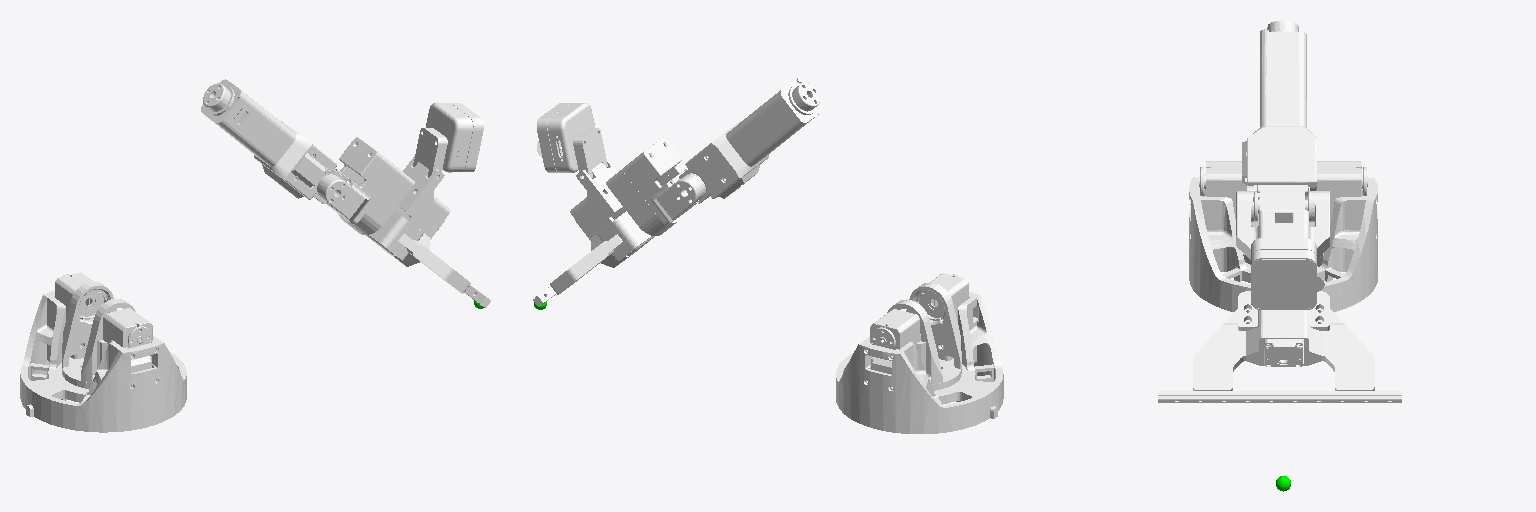
The robot description file, URDF, robot "alicia_D_v5_5":
<?xml version="1.0" encoding="utf-8"?>
<robot name="alicia_D_v5_5">
  <mujoco>
    <compiler meshdir="../meshes" discardvisual="false" />
    <contact>
      <exclude body1="base_link" body2="Link1"/>
      <exclude body1="Link1" body2="Link2"/>
      <exclude body1="Link2" body2="Link3"/>
      <exclude body1="Link3" body2="Link4"/>
      <exclude body1="Link4" body2="Link5"/>
      <exclude body1="Link5" body2="Link6"/>
      <exclude body1="Link6" body2="Link7"/>
      <exclude body1="Link6" body2="Link8"/>
    </contact>
  </mujoco>
  <link
    name="base_link">
    <visual>
      <origin
        xyz="0 0 0"
        rpy="0 0 0" />
      <geometry>
        <mesh
          filename="package://alicia_d_descriptions/meshes/base_link.STL" />
      </geometry>
      <material
        name="">
        <color
          rgba="1 1 1 1" />
      </material>
    </visual>
    <collision>
      <origin
        xyz="0 0 0"
        rpy="0 0 0" />
      <geometry>
        <mesh
          filename="package://alicia_d_descriptions/meshes/base_link.STL" />
      </geometry>
    </collision>
  </link>
  <link
    name="Link1">
    <inertial>
      <origin
        xyz="-0.000232391087694535 -1.30049454546467E-05 0.00272122513752755"
        rpy="0 0 0" />
      <mass
        value="0.193725361315237" />
      <inertia
        ixx="0.000258312653055438"
        ixy="8.79363230651008E-07"
        ixz="-6.87511809706199E-07"
        iyy="0.000149233685494123"
        iyz="-1.07703111237371E-06"
        izz="0.000339752801671385" />
    </inertial>
    <visual>
      <origin
        xyz="0 0 0"
        rpy="0 0 0" />
      <geometry>
        <mesh
          filename="package://alicia_d_descriptions/meshes/Link1.STL" />
      </geometry>
      <material
        name="">
        <color
          rgba="1 1 1 1" />
      </material>
    </visual>
    <collision>
      <origin
        xyz="0 0 0"
        rpy="0 0 0" />
      <geometry>
        <mesh
          filename="package://alicia_d_descriptions/meshes/Link1.STL" />
      </geometry>
    </collision>
  </link>
  <joint
    name="Joint1"
    type="revolute">
    <origin
      xyz="0 0 0.1295"
      rpy="0 0 0" />
    <parent
      link="base_link" />
    <child
      link="Link1" />
    <axis
      xyz="0 0 1" />
    <limit
      lower="-2.16"
      upper="2.16"
      effort="12"
      velocity="5" />
  </joint>
  <link
    name="Link2">
    <inertial>
      <origin
        xyz="0.149948141017768 -0.00073733103436536 -0.000614552702572041"
        rpy="0 0 0" />
      <mass
        value="0.216765318032361" />
      <inertia
        ixx="0.00012827957403101"
        ixy="-1.18676813578654E-07"
        ixz="-1.68171130903575E-06"
        iyy="0.000226231611908606"
        iyz="-3.50051091633141E-07"
        izz="0.000143215063853149" />
    </inertial>
    <visual>
      <origin
        xyz="0 0 0"
        rpy="0 0 0" />
      <geometry>
        <mesh
          filename="package://alicia_d_descriptions/meshes/Link2.STL" />
      </geometry>
      <material
        name="">
        <color
          rgba="1 1 1 1" />
      </material>
    </visual>
    <collision>
      <origin
        xyz="0 0 0"
        rpy="0 0 0" />
      <geometry>
        <mesh
          filename="package://alicia_d_descriptions/meshes/Link2.STL" />
      </geometry>
    </collision>
  </link>
  <joint
    name="Joint2"
    type="revolute">
    <origin
      xyz="0 -5E-05 0.04287"
      rpy="1.5708 -1.5708 0" />
    <parent
      link="Link1" />
    <child
      link="Link2" />
    <axis
      xyz="0 0 1" />
    <limit
      lower="-1.57"
      upper="1.57"
      effort="12"
      velocity="5" />
  </joint>
  <link
    name="Link3">
    <inertial>
      <origin
        xyz="0.055786319810667 0.00248143782929366 0.000269720725052352"
        rpy="0 0 0" />
      <mass
        value="0.0845575681430802" />
      <inertia
        ixx="2.87941478239851E-05"
        ixy="-2.26498116289353E-06"
        ixz="-5.38445390787684E-06"
        iyy="7.61918370068424E-05"
        iyz="-3.82299515503286E-07"
        izz="8.043706644056E-05" />
    </inertial>
    <visual>
      <origin
        xyz="0 0 0"
        rpy="0 0 0" />
      <geometry>
        <mesh
          filename="package://alicia_d_descriptions/meshes/Link3.STL" />
      </geometry>
      <material
        name="">
        <color
          rgba="1 1 1 1" />
      </material>
    </visual>
    <collision>
      <origin
        xyz="0 0 0"
        rpy="0 0 0" />
      <geometry>
        <mesh
          filename="package://alicia_d_descriptions/meshes/Link3.STL" />
      </geometry>
    </collision>
  </link>
  <joint
    name="Joint3"
    type="revolute">
    <origin
      xyz="0.22367 -0.022592 0"
      rpy="0 0 -2.3562" />
    <parent
      link="Link2" />
    <child
      link="Link3" />
    <axis
      xyz="0 0 1" />
    <limit
      lower="-0.5"
      upper="2.35619"
      effort="12"
      velocity="5" />
  </joint>
  <link
    name="Link4">
    <inertial>
      <origin
        xyz="0.000298365504501796 -0.000601368925849056 0.0663740391896737"
        rpy="0 0 0" />
      <mass
        value="0.0653695953286747" />
      <inertia
        ixx="7.03004188086337E-05"
        ixy="-9.68417851161416E-09"
        ixz="-7.50131707418093E-07"
        iyy="6.8747029788813E-05"
        iyz="4.45271906086873E-08"
        izz="1.68226189350765E-05" />
    </inertial>
    <visual>
      <origin
        xyz="0 0 0"
        rpy="0 0 0" />
      <geometry>
        <mesh
          filename="package://alicia_d_descriptions/meshes/Link4.STL" />
      </geometry>
      <material
        name="">
        <color
          rgba="1 1 1 1" />
      </material>
    </visual>
    <collision>
      <origin
        xyz="0 0 0"
        rpy="0 0 0" />
      <geometry>
        <mesh
          filename="package://alicia_d_descriptions/meshes/Link4.STL" />
      </geometry>
    </collision>
  </link>
  <joint
    name="Joint4"
    type="revolute">
    <origin
      xyz="0.0986 -0.00211 0.0002"
      rpy="-1.5708 0 -1.5708" />
    <parent
      link="Link3" />
    <child
      link="Link4" />
    <axis
      xyz="0 0 -1" />
    <limit
      lower="-3.14"
      upper="3.14"
      effort="12"
      velocity="5" />
  </joint>
  <link
    name="Link5">
    <inertial>
      <origin
        xyz="-0.0110961410990681 0.0308024762289942 -0.000207575403674642"
        rpy="0 0 0" />
      <mass
        value="0.0463941316397046" />
      <inertia
        ixx="1.8425786696003E-05"
        ixy="2.02919305442313E-06"
        ixz="-5.09341788606234E-08"
        iyy="2.39811947218569E-05"
        iyz="-4.22854804621873E-08"
        izz="1.63952567717743E-05" />
    </inertial>
    <visual>
      <origin
        xyz="0 0 0"
        rpy="0 0 0" />
      <geometry>
        <mesh
          filename="package://alicia_d_descriptions/meshes/Link5.STL" />
      </geometry>
      <material
        name="">
        <color
          rgba="1 1 1 1" />
      </material>
    </visual>
    <collision>
      <origin
        xyz="0 0 0"
        rpy="0 0 0" />
      <geometry>
        <mesh
          filename="package://alicia_d_descriptions/meshes/Link5.STL" />
      </geometry>
    </collision>
  </link>
  <joint
    name="Joint5"
    type="revolute">
    <origin
      xyz="0 0.00015 0.12275"
      rpy="1.5708 0 0" />
    <parent
      link="Link4" />
    <child
      link="Link5" />
    <axis
      xyz="0 0 1" />
    <limit
      lower="-1.57"
      upper="1.5"
      effort="12"
      velocity="5" />
  </joint>
  <link
    name="Link6">
    <inertial>
      <origin
        xyz="-3.11347120307559E-09 6.19962735608128E-10 -0.00146275616399921"
        rpy="0 0 0" />
      <mass
        value="0.000754053623586768" />
      <inertia
        ixx="1.9236769291339E-08"
        ixy="9.19452445636026E-14"
        ixz="3.52333012571258E-15"
        iyy="1.92358360258478E-08"
        iyz="-3.901270498029E-17"
        izz="3.70123450485896E-08" />
    </inertial>
    <visual>
      <origin
        xyz="0 0 0"
        rpy="0 0 0" />
      <geometry>
        <mesh
          filename="package://alicia_d_descriptions/meshes/Link6.STL" />
      </geometry>
      <material
        name="">
        <color
          rgba="1 1 1 1" />
      </material>
    </visual>
    <collision>
      <origin
        xyz="0 0 0"
        rpy="0 0 0" />
      <geometry>
        <mesh
          filename="package://alicia_d_descriptions/meshes/Link6.STL" />
      </geometry>
    </collision>
  </link>
  <joint
    name="Joint6"
    type="revolute">
    <origin
      xyz="-0.00385 0.0573 -0.00035"
      rpy="-1.5708 0 0" />
    <parent
      link="Link5" />
    <child
      link="Link6" />
    <axis
      xyz="0 0 -1" />
    <limit
      lower="-3.14"
      upper="3.14"
      effort="12"
      velocity="5" />
  </joint>
  <link
    name="Grasp_base">
    <inertial>
      <origin
        xyz="-0.0321082111389046 -0.000168822009778203 0.0275474621634362"
        rpy="0 0 0" />
      <mass
        value="0.119820573147005" />
      <inertia
        ixx="8.23026483118452E-05"
        ixy="2.1627287972411E-08"
        ixz="-6.37078693697654E-06"
        iyy="3.33372461482565E-05"
        iyz="2.3095070932307E-08"
        izz="8.59654133961544E-05" />
    </inertial>
    <visual>
      <origin
        xyz="0 0 0"
        rpy="0 0 0" />
      <geometry>
        <mesh
          filename="package://alicia_d_descriptions/meshes/Grasp_base.STL" />
      </geometry>
      <material
        name="">
        <color
          rgba="1 1 1 1" />
      </material>
    </visual>
    <collision>
      <origin
        xyz="0 0 0"
        rpy="0 0 0" />
      <geometry>
        <mesh
          filename="package://alicia_d_descriptions/meshes/Grasp_base.STL" />
      </geometry>
    </collision>
  </link>
  <joint
    name="Joint6_to_gripper_base"
    type="fixed">
    <origin
      xyz="0 0 0"
      rpy="0 0 0" />
    <parent
      link="Link6" />
    <child
      link="Grasp_base" />
    <axis
      xyz="0 0 0" />
  </joint>
  <link
    name="Link7">
    <inertial>
      <origin
        xyz="2.97087521250461E-08 0.0434087591943518 0.0106596716155943"
        rpy="0 0 0" />
      <mass
        value="0.0256461121677861" />
      <inertia
        ixx="6.46830326573767E-06"
        ixy="2.39543799544883E-11"
        ixz="-4.63721293861409E-12"
        iyy="5.13428741941794E-06"
        iyz="-1.26432048814187E-06"
        izz="8.03606347912567E-06" />
    </inertial>
    <visual>
      <origin
        xyz="0 0 0"
        rpy="0 0 0" />
      <geometry>
        <mesh
          filename="package://alicia_d_descriptions/meshes/Link7.STL" />
      </geometry>
      <material
        name="">
        <color
          rgba="1 1 1 1" />
      </material>
    </visual>
    <collision>
      <origin
        xyz="0 0 0"
        rpy="0 0 0" />
      <geometry>
        <mesh
          filename="package://alicia_d_descriptions/meshes/Link7.STL" />
      </geometry>
    </collision>
  </link>
  <joint
    name="left_finger"
    type="prismatic">
    <origin
      xyz="-0.0002 0.050502 0.13118"
      rpy="-1.5708 0 0" />
    <parent
      link="Grasp_base" />
    <child
      link="Link7" />
    <axis
      xyz="0 0 1" />
    <limit
      lower="-0.05"
      upper="0"
      effort="5"
      velocity="10" />
    <mimic joint="right_finger" multiplier="-1" offset="0"/>
  </joint>
  <link
    name="Link8">
    <inertial>
      <origin
        xyz="-2.97087521250461E-08 -0.0434087591943727 0.0106596716155944"
        rpy="0 0 0" />
      <mass
        value="0.025646112167786" />
      <inertia
        ixx="6.46830326573761E-06"
        ixy="2.39543799589352E-11"
        ixz="4.63721294819601E-12"
        iyy="5.13428741941793E-06"
        iyz="1.26432048814186E-06"
        izz="8.03606347912559E-06" />
    </inertial>
    <visual>
      <origin
        xyz="0 0 0"
        rpy="0 0 0" />
      <geometry>
        <mesh
          filename="package://alicia_d_descriptions/meshes/Link8.STL" />
      </geometry>
      <material
        name="">
        <color
          rgba="1 1 1 1" />
      </material>
    </visual>
    <collision>
      <origin
        xyz="0 0 0"
        rpy="0 0 0" />
      <geometry>
        <mesh
          filename="package://alicia_d_descriptions/meshes/Link8.STL" />
      </geometry>
    </collision>
  </link>
  <joint
    name="right_finger"
    type="prismatic">
    <origin
      xyz="-0.0002 -0.050498 0.13118"
      rpy="1.5708 0 0" />
    <parent
      link="Grasp_base" />
    <child
      link="Link8" />
    <axis
      xyz="0 0 -1" />
    <limit
      lower="0"
      upper="0.05"
      effort="5"
      velocity="10" />
  </joint>
  <link
    name="tool0">
    <visual>
      <origin
        xyz="0 0 0"
        rpy="0 0 0" />
      <geometry>
        <sphere radius="0.005" /> <!-- 定义一个半径为0.02米的小球体 -->
      </geometry>
      <material
        name="green_virtual_sphere_material"> <!-- 可以给材质起个名字 -->
        <color
          rgba="0 1 0 1" /> <!-- 绿色 (R G B A)，A为1表示不透明 -->
      </material>
    </visual>
  </link>
  <joint
    name="Grasp2tool"
    type="fixed">
    <origin
      xyz="-0.0002 -0.0003 0.13118"
      rpy="0 0 0" />
    <parent
      link="Grasp_base" />
    <child
      link="tool0" />
    <axis
      xyz="0 0 0" />
  </joint>
</robot>

--- What the picture shows (computed from the rendered views, not written in the file) ---
Views: 3 orthographic renders of the robot side by side, from view 1: azimuth 30°, elevation 25°; view 2: azimuth 150°, elevation 25°; view 3: azimuth 270°, elevation 25°.
Robot: alicia_D_v5_5 — 11 links, 10 joints (6 revolute, 2 prismatic, 2 fixed); root link base_link; default pose: every joint at zero.
Visible links, largest first — view 1: Link1, Grasp_base, Link4, Link5; view 2: Link1, Grasp_base, Link4, Link5; view 3: Grasp_base, Link1, Link4, Link5.
Link boxes in pixels (x1,y1,x2,y2): Link1: (20, 272, 186, 432); Grasp_base: (366, 103, 490, 307); Link4: (201, 79, 343, 203); Link5: (318, 137, 414, 234); Link1: (836, 273, 1003, 433); Grasp_base: (533, 103, 654, 306); Link4: (679, 78, 821, 203); Link5: (606, 137, 703, 235); Grasp_base: (1158, 238, 1401, 402); Link1: (1189, 161, 1377, 311); Link4: (1242, 20, 1316, 221); Link5: (1236, 191, 1329, 259).
Size in the robot's own frame: 0.3818 by 0.155 by 0.2285 metres.
5 mesh visuals loaded from 10 distinct referenced files (5 binary STL); not drawn: 5 (reference not matched to a file when rendering).
